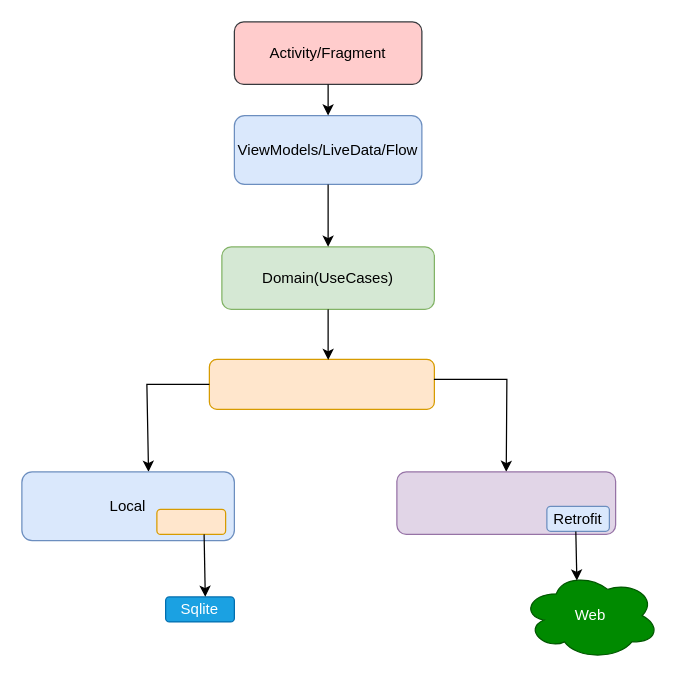
This 681x681 diagram has some shape labels left out. The shapes that lost their labels are listed below. From the top down, each one's box as (x1, y1, x2, y2) in pixels, then its label:
(208, 358, 434, 409): Repository
(156, 508, 226, 534): Room
(396, 471, 616, 534): Remote
